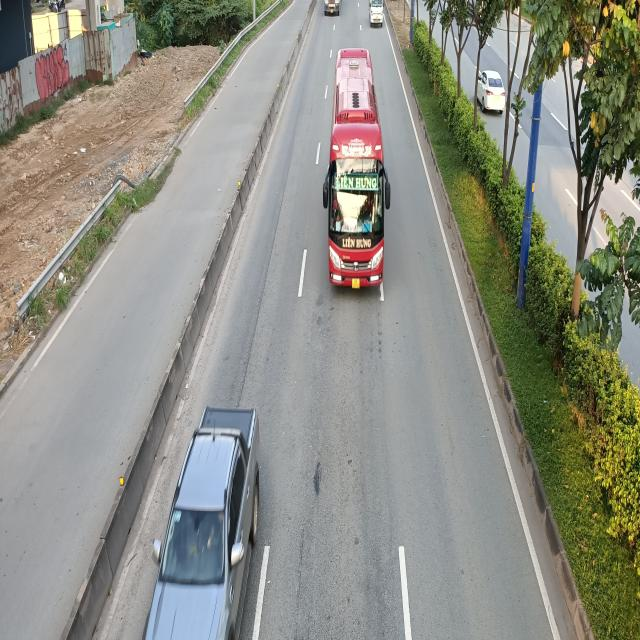car: (131, 404, 268, 640)
coach: (322, 47, 391, 296)
